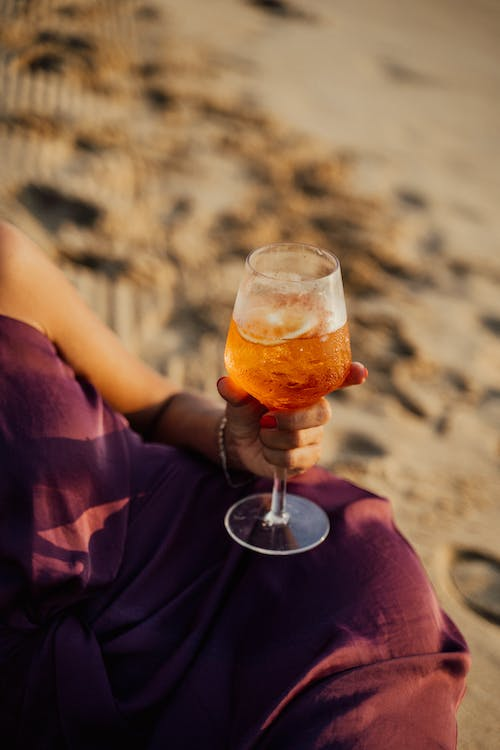alcohol: (220, 240, 354, 558)
